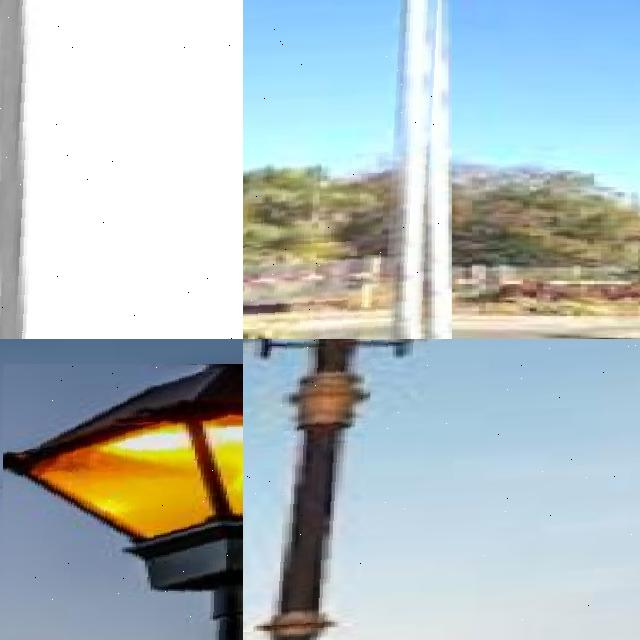street light: (243, 339, 640, 640), (0, 0, 243, 339), (243, 0, 452, 339), (3, 364, 243, 640)
